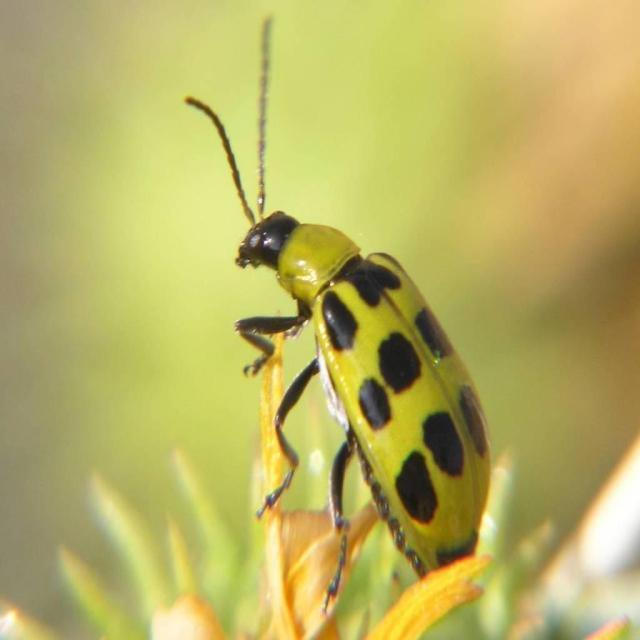gusano_verde: (185, 11, 492, 616)
